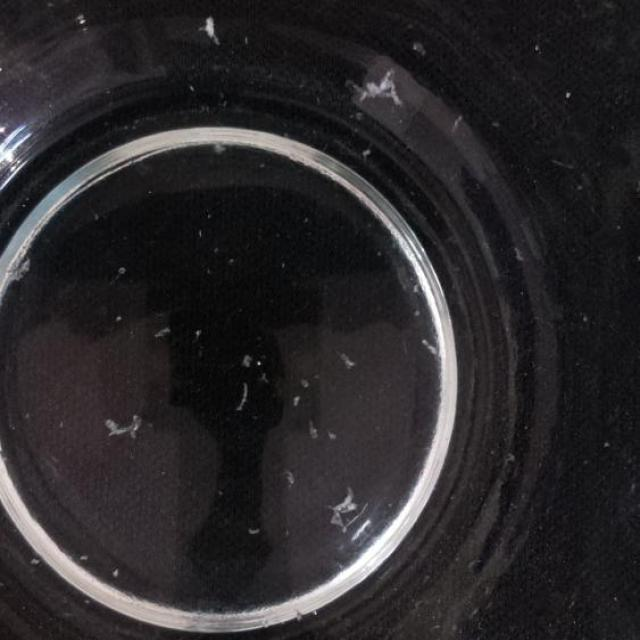fiber: (349, 65, 415, 115), (329, 490, 373, 543), (102, 404, 148, 447), (422, 334, 450, 371), (201, 12, 225, 49), (308, 420, 342, 445), (148, 322, 184, 343), (412, 36, 433, 65), (238, 383, 252, 419), (281, 464, 298, 493), (339, 351, 360, 373), (246, 522, 263, 545), (243, 354, 258, 369), (294, 388, 302, 414)
